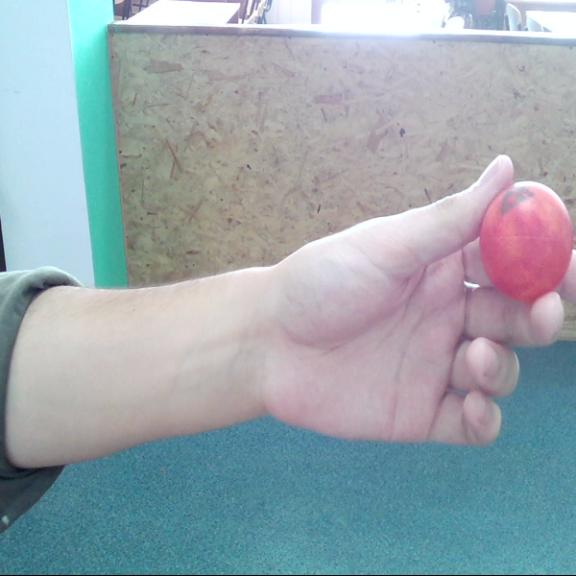ball: (483, 182, 568, 302)
